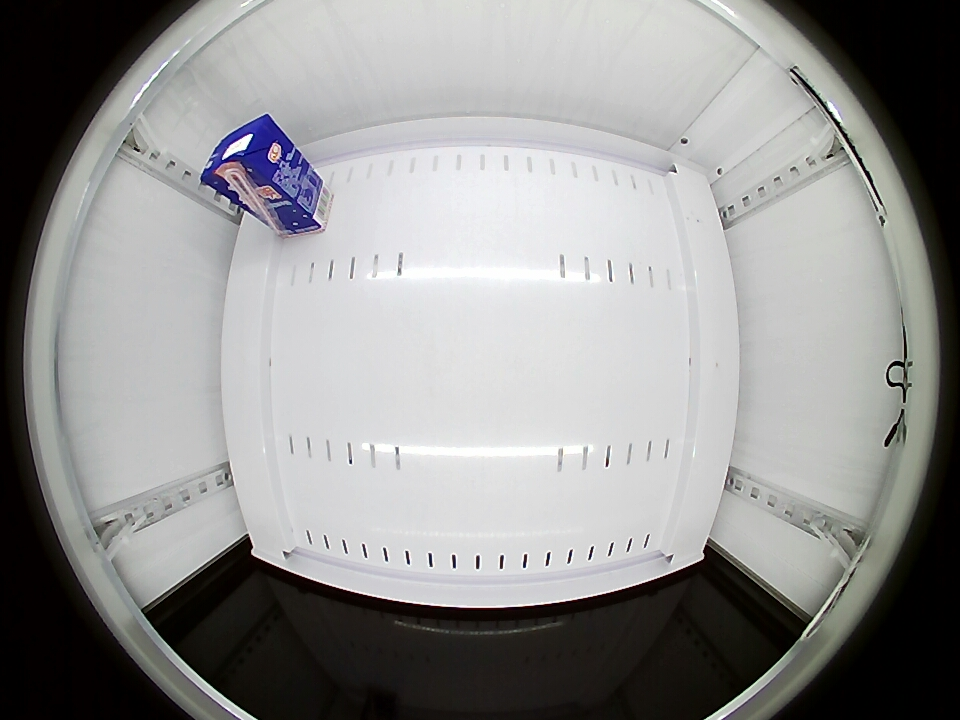bingqilinniunai: (200, 114, 291, 197)
